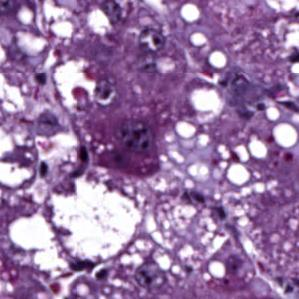ballooning: (44, 172, 146, 267)
